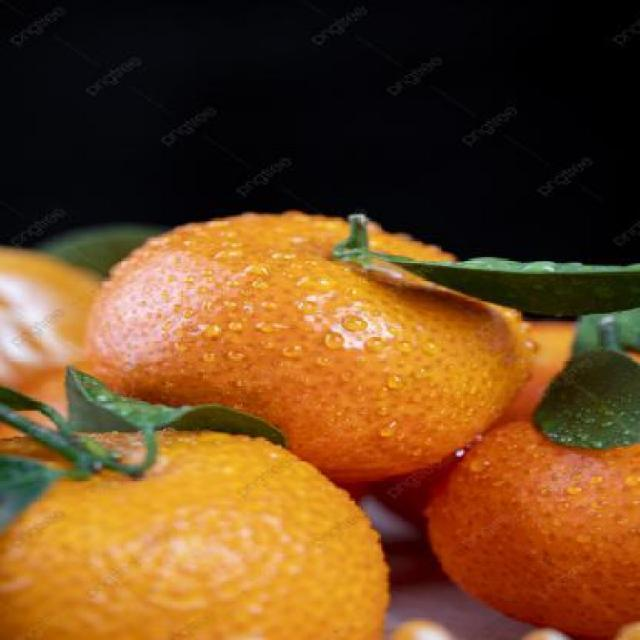Jeruk Sudah Matang: (90, 215, 532, 488), (0, 423, 400, 640), (425, 407, 639, 640)
